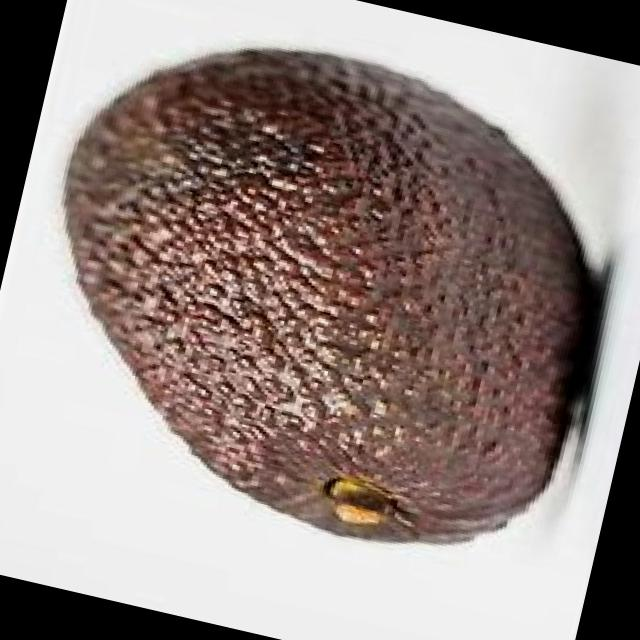avocado: (0, 0, 635, 592)
